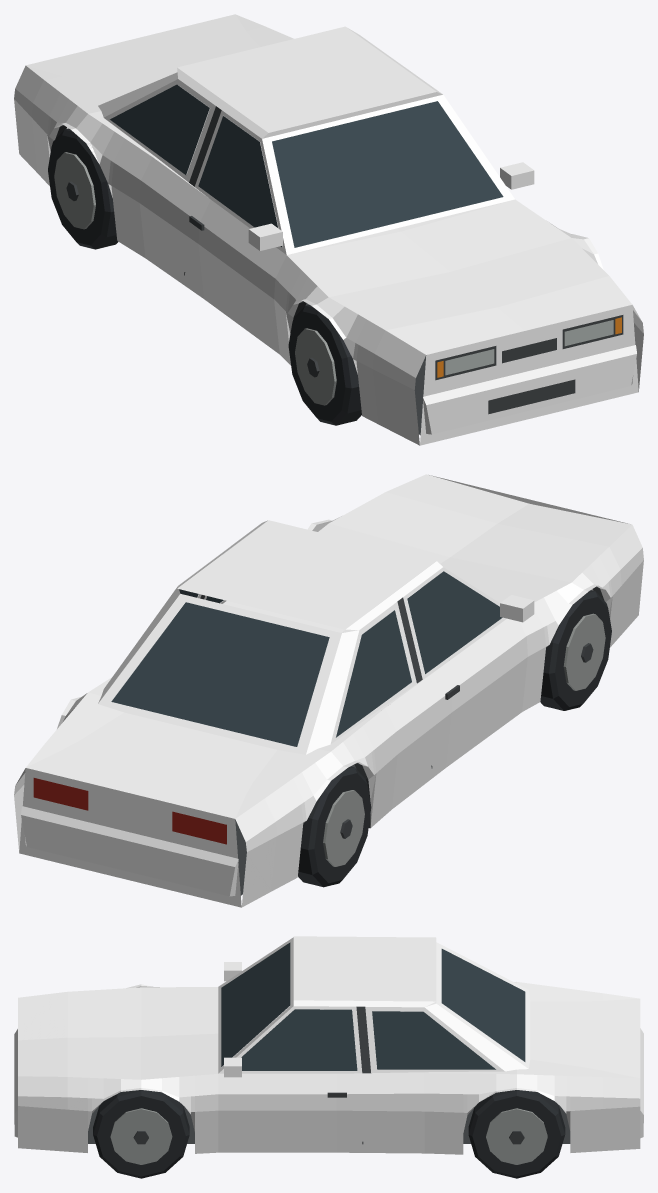
The model's file is ashcombe_heron_s.glb.
3 renders of one model, top to bottom at view 1: azimuth 30°, elevation 25°; view 2: azimuth 150°, elevation 25°; view 3: azimuth 270°, elevation 25°, orthographic. The views are drawn at different scales.
Visible parts, largest first — view 1: ashcombe_heron_s; view 2: ashcombe_heron_s; view 3: ashcombe_heron_s.
Boxes of the visible parts, <box> form: ashcombe_heron_s: <box>14,14,643,445</box>; ashcombe_heron_s: <box>14,474,643,907</box>; ashcombe_heron_s: <box>14,936,643,1178</box>.
Bounding box in the file's own units: 1.69 × 1.2 × 4.26.
Materials: 8 (1 with a texture image).
